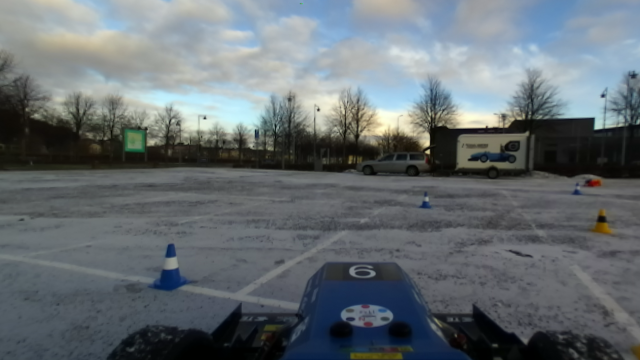blue: (149, 240, 189, 291), (418, 190, 434, 209), (570, 182, 582, 197)
yellow: (589, 206, 613, 235)
